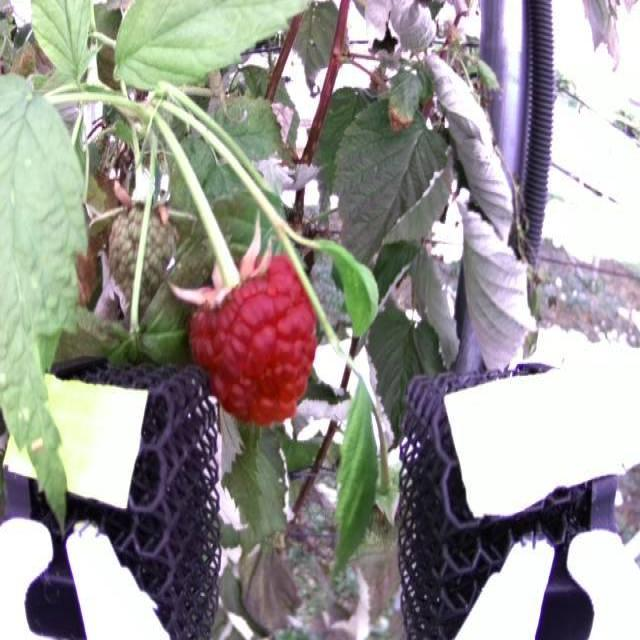Riped berries: (185, 249, 321, 427)
